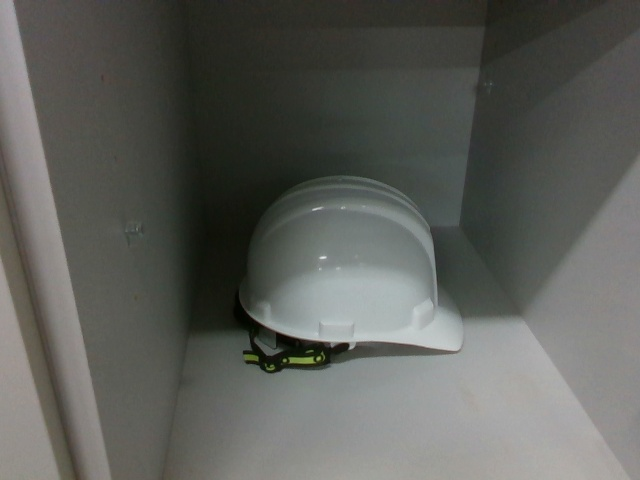helmet: (228, 168, 467, 375)
